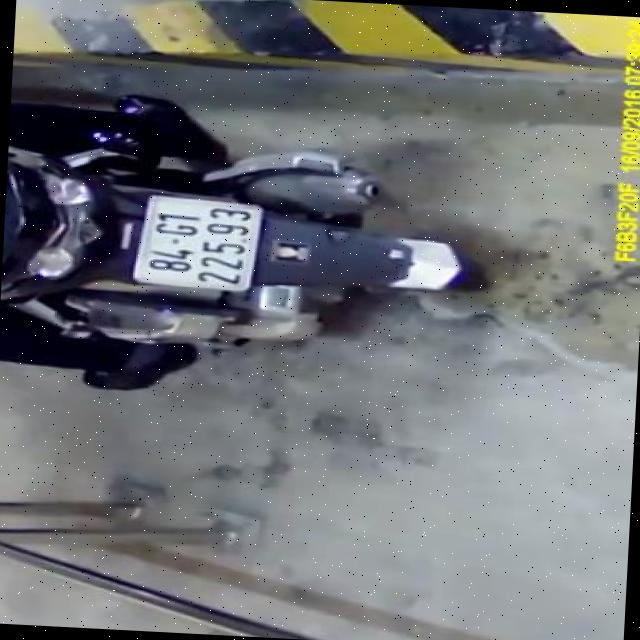license_plate: (135, 194, 262, 284)
